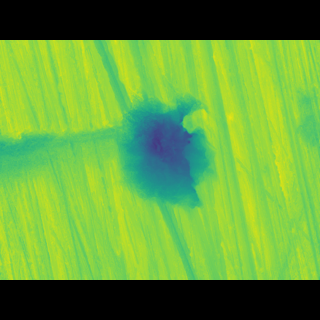Loch: (115, 107, 215, 198)
